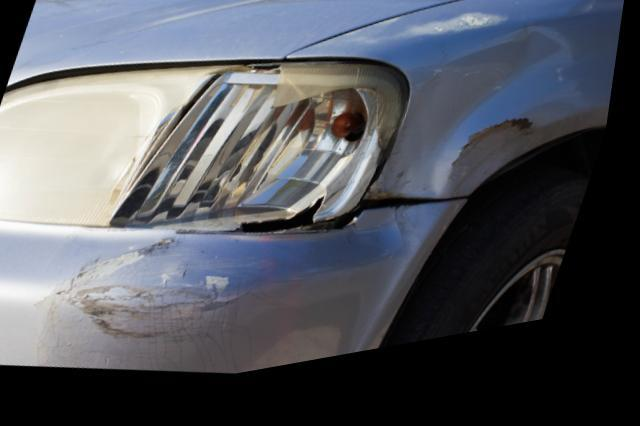dent: (377, 44, 582, 216)
lamp broken: (0, 72, 416, 246)
scratch: (38, 245, 266, 384)
